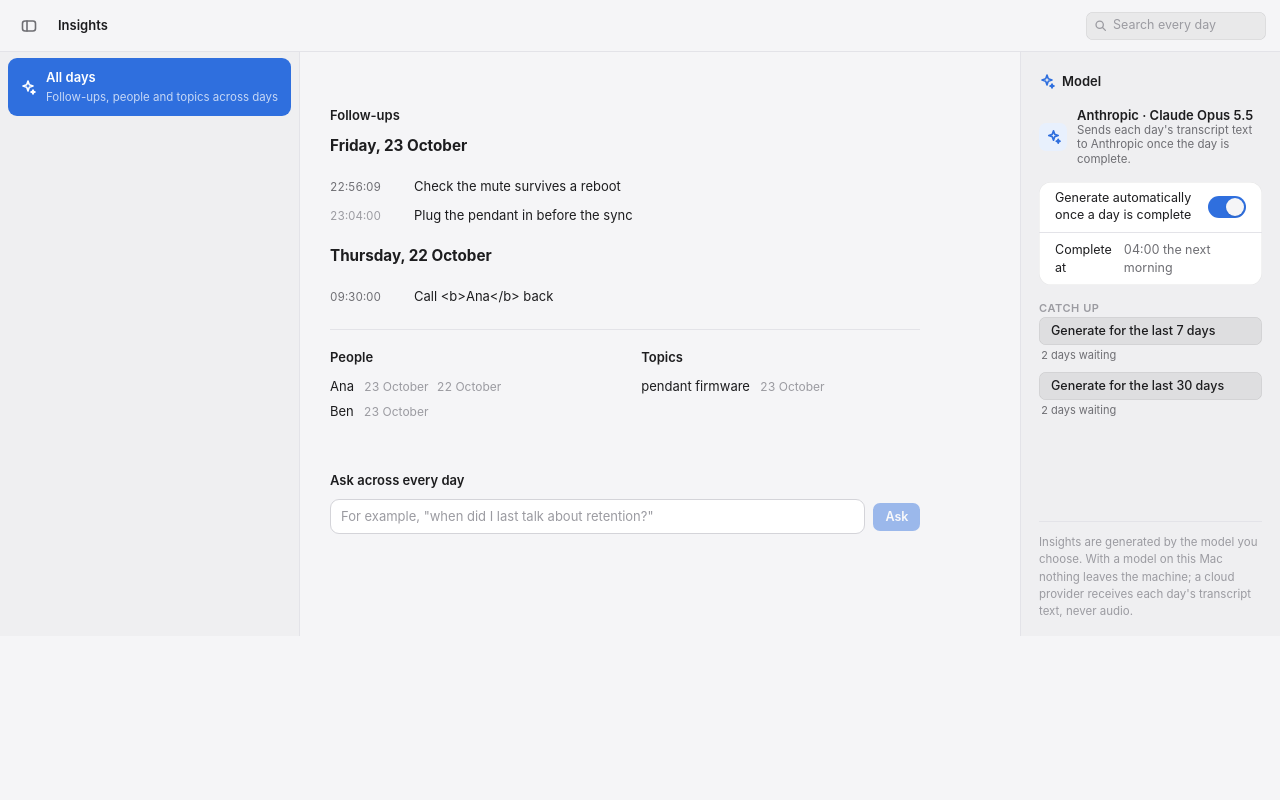
Test: a range already running says so
Click the button "Generate for the last 7 days".
click(1150, 331)  # box [1039,317,1262,345]
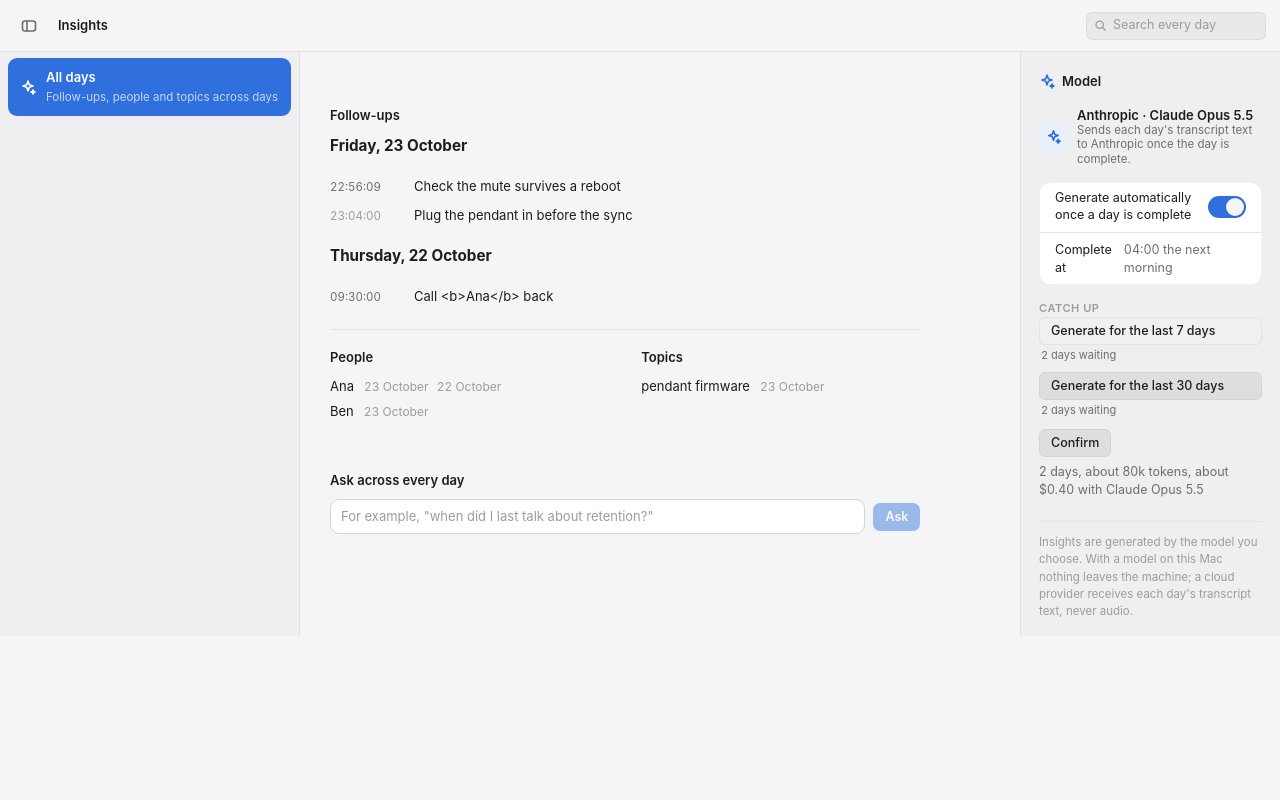
Click the button "Confirm".
click(1075, 443)  # box [1039,429,1111,457]
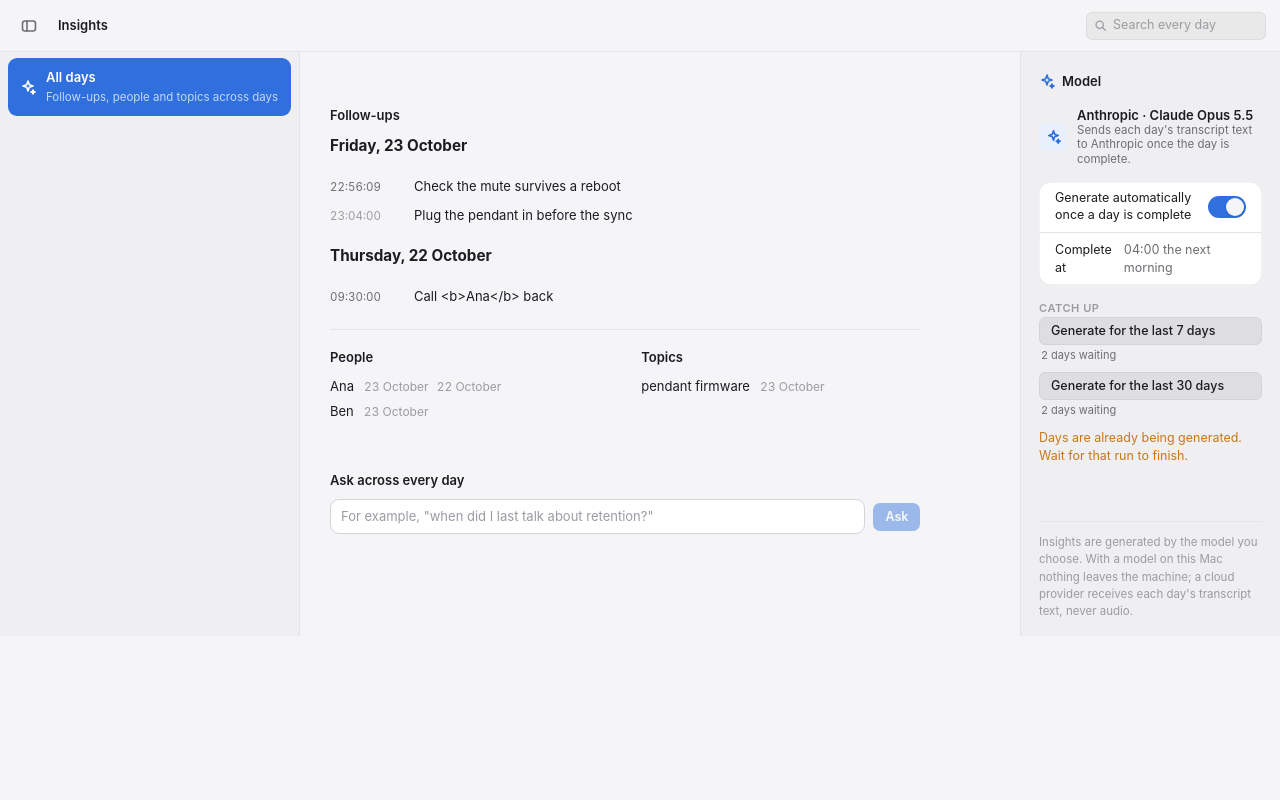
Expected: the message reads "Days are already being generated. Wait for that run to finish.", [1039,430,1242,463]
